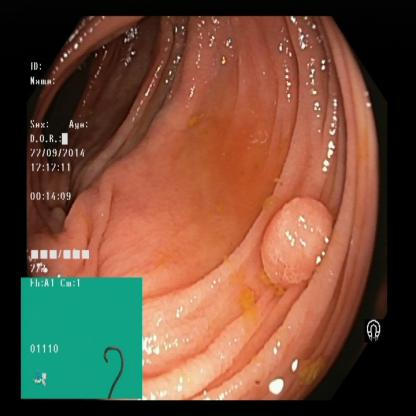Labels: (24, 56, 101, 277), (22, 278, 143, 401)
Polyps: (260, 194, 331, 286)
